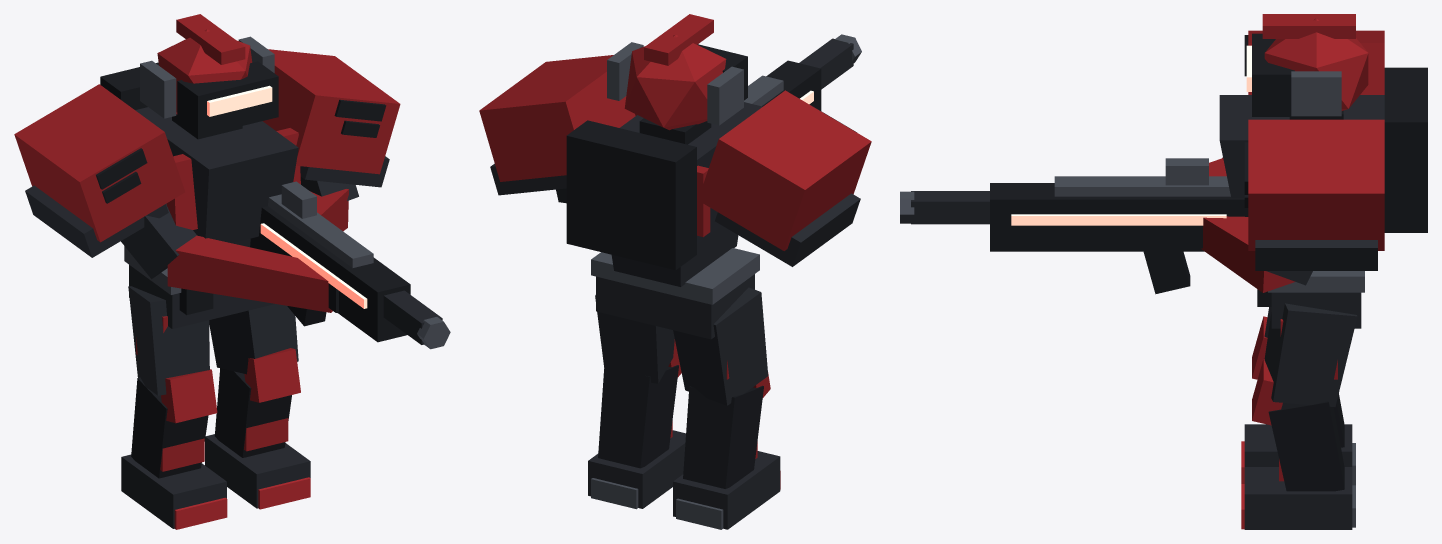
Rendered from assault.glb.
The picture shows the model from 3 angles, left to right: view 1: azimuth 30°, elevation 25°; view 2: azimuth 150°, elevation 25°; view 3: azimuth 270°, elevation 25°; orthographic projection. The views are drawn at different scales.
Visible parts, largest first — view 1: AssaultBody, AssaultLegL, AssaultLegR, AssaultGlow; view 2: AssaultBody, AssaultLegL, AssaultLegR; view 3: AssaultBody, AssaultLegR, AssaultLegL, AssaultGlow.
Boxes of the visible parts, x1,y1,x2,y2 form: AssaultBody: (14, 14, 450, 349); AssaultLegL: (121, 286, 227, 529); AssaultLegR: (205, 304, 310, 509); AssaultGlow: (207, 85, 367, 308); AssaultBody: (479, 14, 871, 339); AssaultLegL: (673, 287, 780, 529); AssaultLegR: (588, 295, 685, 509); AssaultBody: (900, 14, 1427, 328); AssaultLegR: (1241, 303, 1357, 529); AssaultLegL: (1241, 307, 1355, 485); AssaultGlow: (1011, 45, 1251, 225).
Size of the model in its own units: 1.07 by 1.46 by 1.47.
